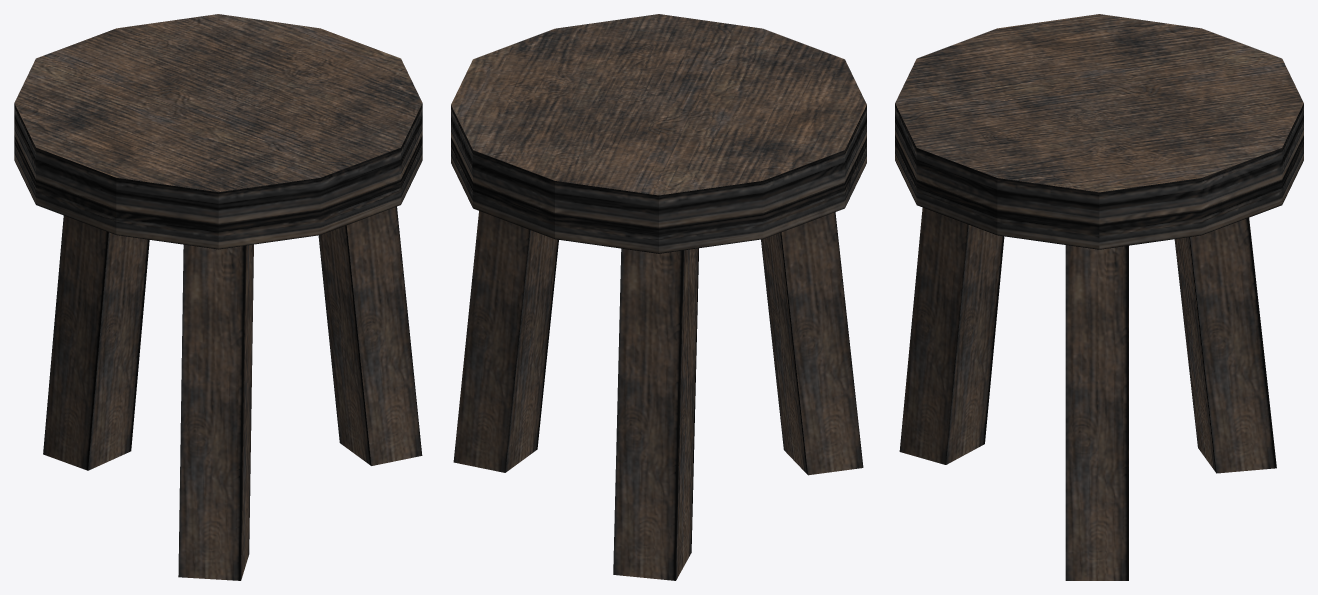
File: CHAIR_BLACK_01_KOZA.glb
3 renders of one model, left to right at view 1: azimuth 30°, elevation 25°; view 2: azimuth 150°, elevation 25°; view 3: azimuth 270°, elevation 25°, orthographic.
Visible parts, largest first — view 1: CHAIR_BLACK_01_KOZA; view 2: CHAIR_BLACK_01_KOZA; view 3: CHAIR_BLACK_01_KOZA.
Part boxes in pixels (x1,y1,x2,y2): CHAIR_BLACK_01_KOZA: (14,14,422,580); CHAIR_BLACK_01_KOZA: (451,14,866,580); CHAIR_BLACK_01_KOZA: (895,14,1303,580).
Bounding box in the file's own units: 0.5059 × 0.505 × 0.4842.
Materials: 2 (2 with a texture image).
